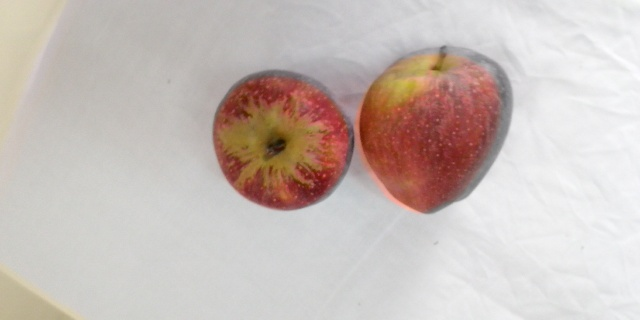apple_kashmir: (360, 47, 512, 211), (212, 68, 357, 212)
